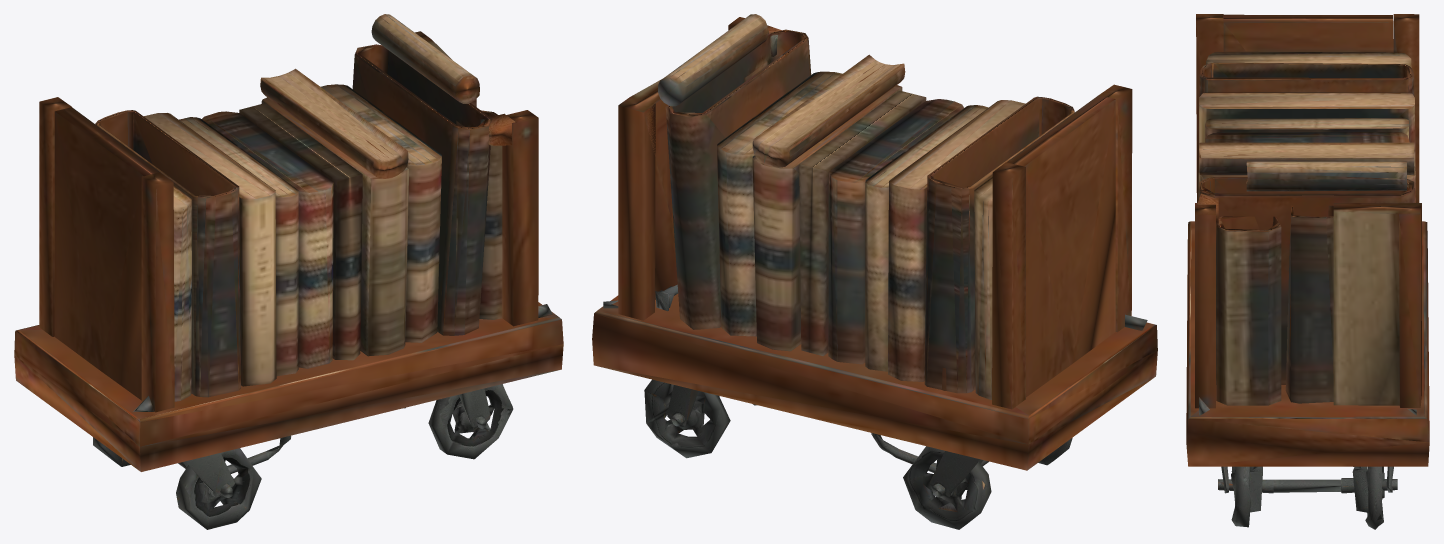
File: book_cart.glb
3 renders of one model, left to right at view 1: azimuth 30°, elevation 25°; view 2: azimuth 150°, elevation 25°; view 3: azimuth 270°, elevation 25°, orthographic. The views are drawn at different scales.
Size of the model in its own units: 1 by 0.8638 by 0.5212.
Materials: 1 (1 with a texture image).
